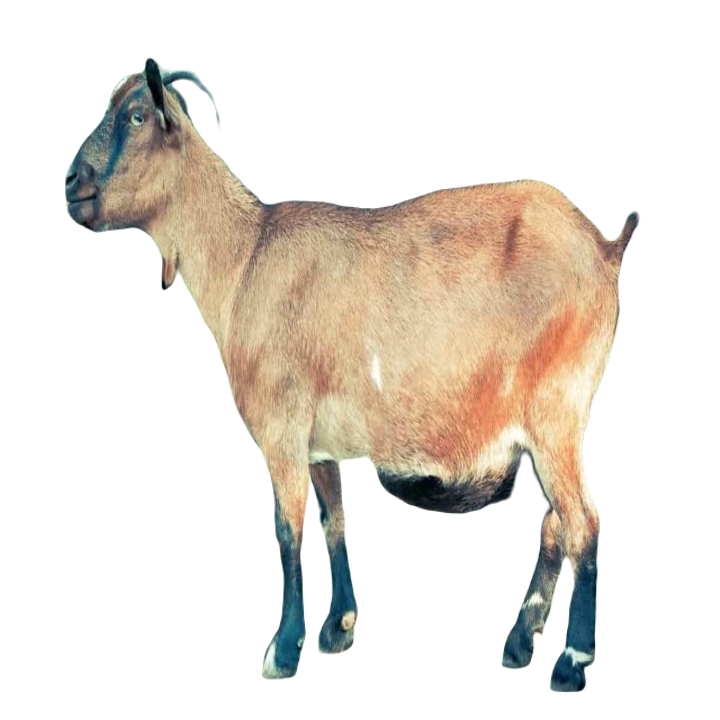Goat: (62, 57, 645, 696)
